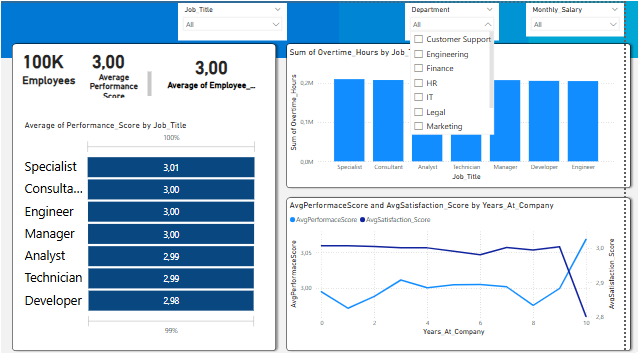

This screenshot's page, from the dashboard's own definition file:
{"tool":"powerbi","page":{"name":"Page 2","canvas":[1280,720],"ordinal":1},"visuals":[{"type":"card","fields":{"Values":["dimEmployee.CountEmployees"]},"box":[0,60,235,106.7],"z":0},{"type":"textbox","box":[38.3,135,183.3,40],"z":1000},{"type":"card","fields":{"Values":["factEmployee_Productivity.Measure"]},"box":[188.3,66.7,121.7,96.7],"z":2000},{"type":"textbox","box":[188.3,131.7,151.7,63.3],"z":3000},{"type":"card","fields":{"Values":["Avg(factEmployee_Productivity.Employee_Satisfaction_Score)"]},"box":[358.3,66.7,193.3,140],"z":4000},{"type":"clusteredColumnChart","fields":{"Category":["dimEmployee.Job_Title"],"Y":["Sum(factEmployee_Productivity.Overtime_Hours)"]},"box":[606.7,88.3,660,271.7],"z":5000},{"type":"funnel","fields":{"Y":["Avg(factEmployee_Productivity.Performance_Score)"],"Category":["dimEmployee.Job_Title"]},"box":[76.7,233.3,475,436.7],"z":6000},{"type":"slicer","fields":{"Values":["factEmployee_Productivity.Monthly_Salary"]},"box":[1083.3,0,196.7,66.7],"z":7000},{"type":"lineChart","fields":{"Y":["factEmployee_Productivity.AvgPerformaceScore"],"Category":["dimEmployee.Years_At_Company"],"Y2":["factEmployee_Productivity.AvgSatisfaction_Score"]},"box":[606.7,393.3,660,276.7],"z":8000},{"type":"slicer","fields":{"Values":["dimDepartment.Department"]},"box":[841.7,0,188.3,75],"z":8001},{"type":"slicer","fields":{"Values":["dimEmployee.Job_Title"]},"box":[388.3,0,218.3,75],"z":8002}]}

Visuals, with their boxes on the page's 1280x720 design canvas (x1, y1, x2, y2). These are canvas units, not pixel positions in the 638x354 screenshot, which may show the page scaled, cropped or inside an application window:
card - dimEmployee.CountEmployees: Rect(0, 60, 235, 167)
textbox: Rect(38, 135, 222, 175)
card - factEmployee_Productivity.Measure: Rect(188, 67, 310, 163)
textbox: Rect(188, 132, 340, 195)
card - Avg(factEmployee_Productivity.Employee_Satisfaction_Score): Rect(358, 67, 552, 207)
clusteredColumnChart - dimEmployee.Job_Title x Sum(factEmployee_Productivity.Overtime_Hours): Rect(607, 88, 1267, 360)
funnel - Avg(factEmployee_Productivity.Performance_Score) x dimEmployee.Job_Title: Rect(77, 233, 552, 670)
slicer - factEmployee_Productivity.Monthly_Salary: Rect(1083, 0, 1280, 67)
lineChart - factEmployee_Productivity.AvgPerformaceScore x dimEmployee.Years_At_Company: Rect(607, 393, 1267, 670)
slicer - dimDepartment.Department: Rect(842, 0, 1030, 75)
slicer - dimEmployee.Job_Title: Rect(388, 0, 607, 75)
